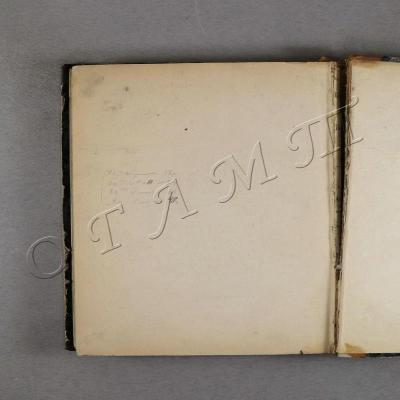rare_books: (61, 56, 400, 360)
